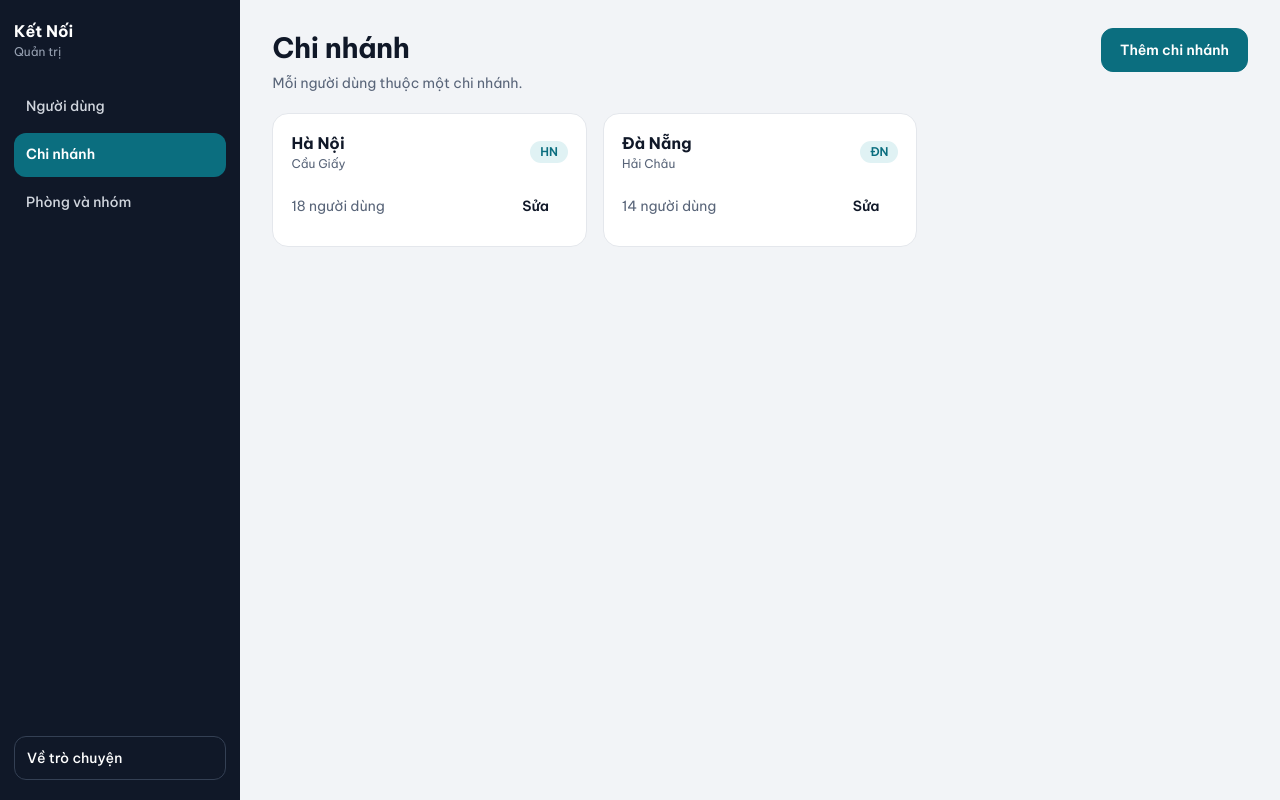
Test: BranchesPage › shows a Vietnamese error for a duplicate name or code
Expected: the text "Đà Nẵng" is shown, [622, 132, 692, 155]
Click the button "Thêm chi nhánh" at point(1174, 50), box [1101, 28, 1248, 72]
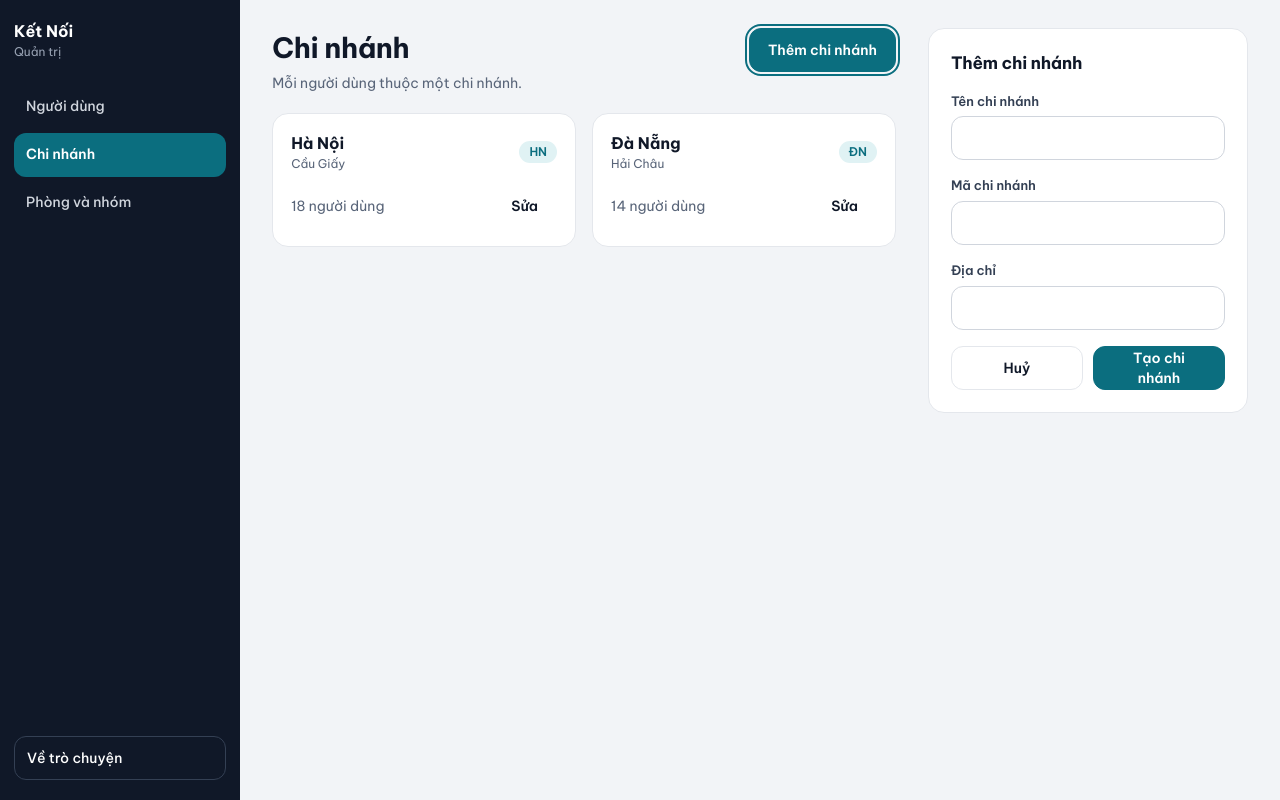
Type "Hà Nội" into the field labelled "Tên chi nhánh" at point(1088, 138), box [951, 116, 1225, 160]
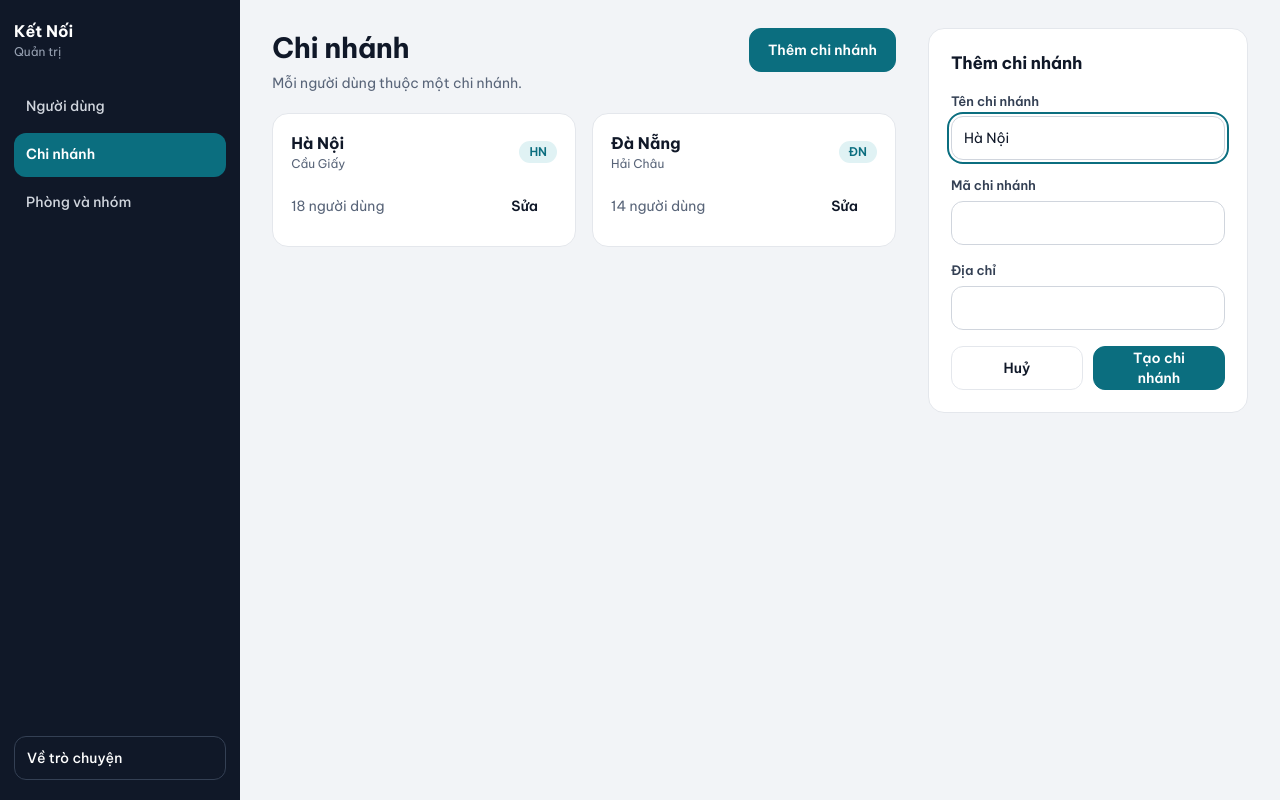
Type "HN" into the field labelled "Mã chi nhánh" at point(1088, 223), box [951, 201, 1225, 245]
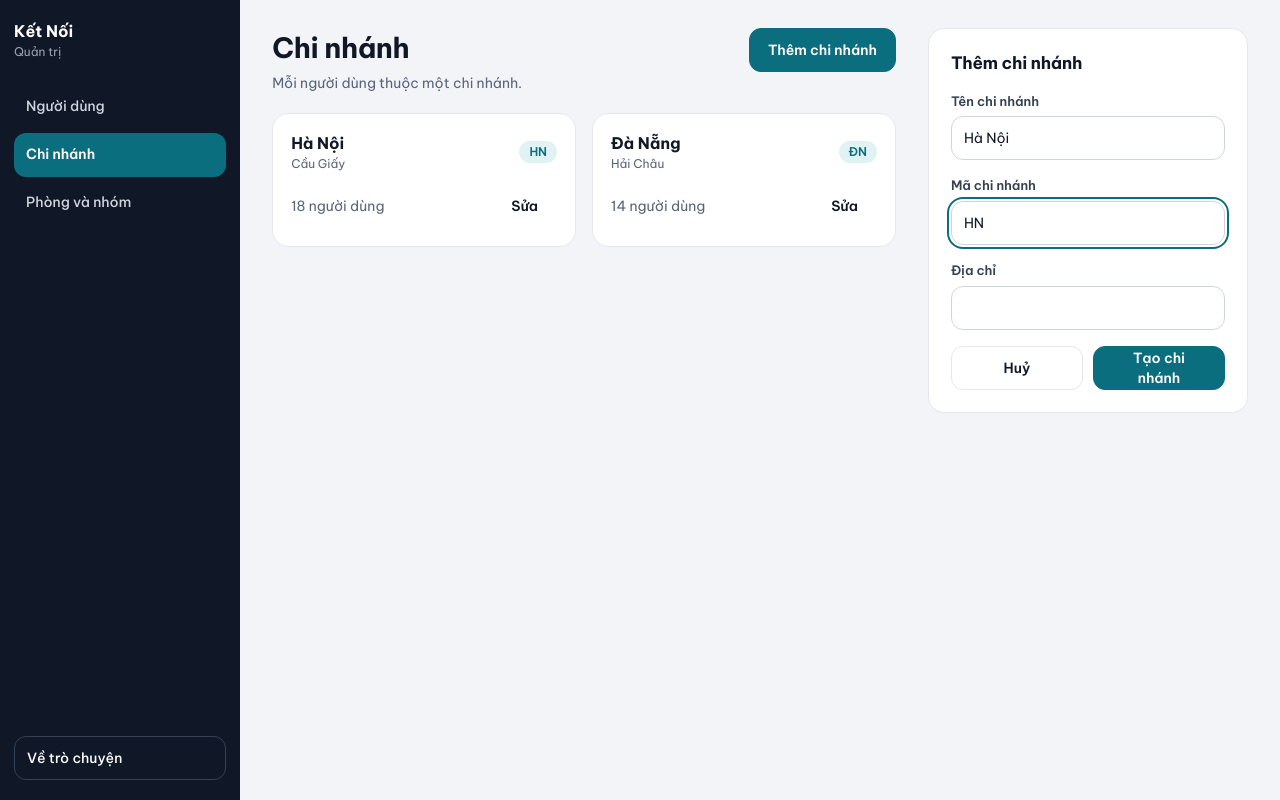
Click the button "Tạo chi nhánh" at point(1159, 368), box [1093, 346, 1225, 390]
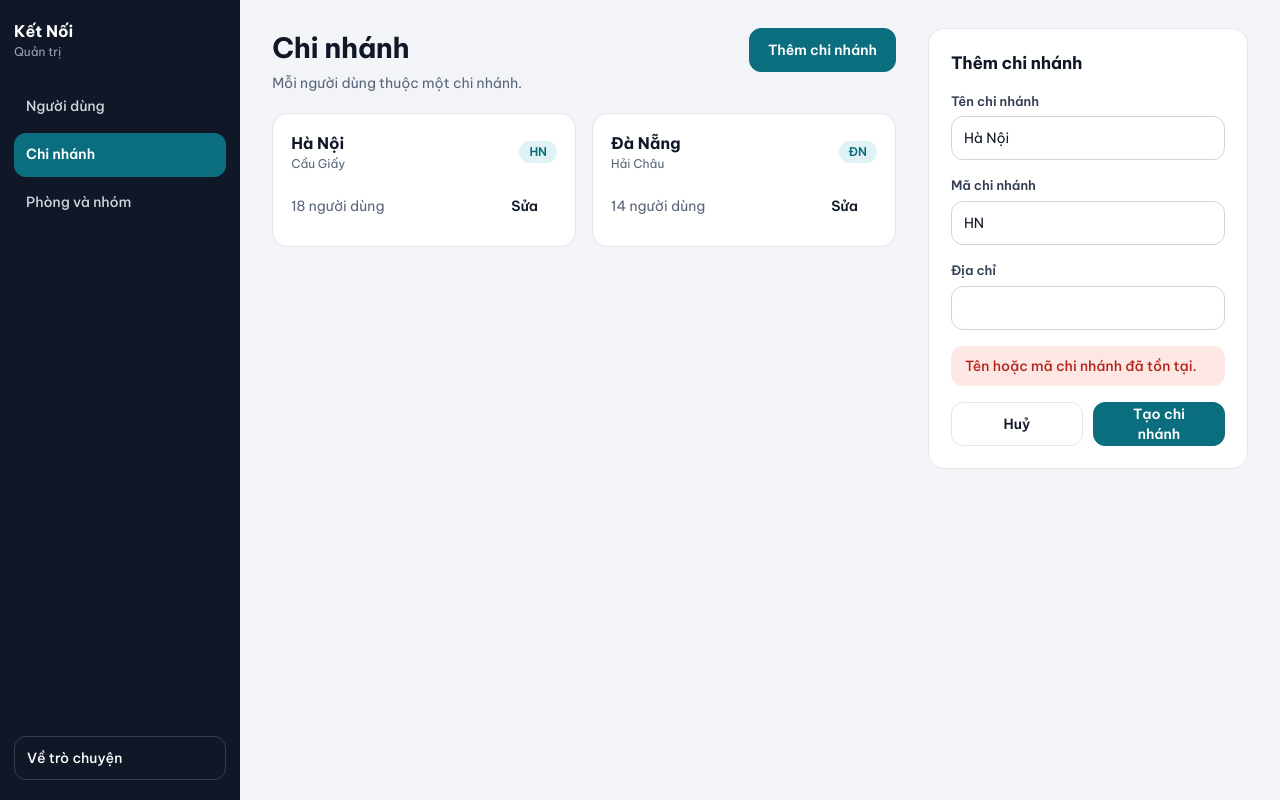
Now the message reads "Tên hoặc mã chi nhánh đã tồn tại.", box [965, 357, 1197, 375]
